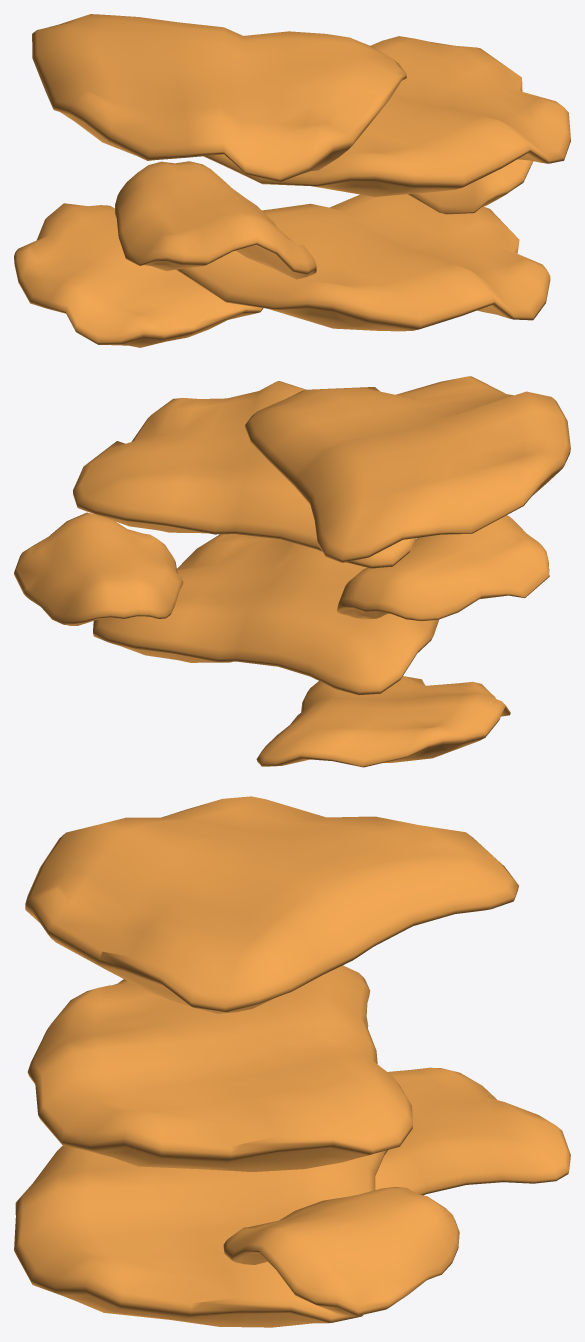
The model's file is Mushroom_Laetiporus.glb.
3 renders of one model, top to bottom at view 1: azimuth 30°, elevation 25°; view 2: azimuth 150°, elevation 25°; view 3: azimuth 270°, elevation 25°, orthographic. The views are drawn at different scales.
Parts seen in each view (by area): view 1: Mushroom_Laetiporus; view 2: Mushroom_Laetiporus; view 3: Mushroom_Laetiporus.
Boxes of the visible parts, x1,y1,x2,y2 form: Mushroom_Laetiporus: (14,14,570,347); Mushroom_Laetiporus: (14,376,570,767); Mushroom_Laetiporus: (14,796,570,1327).
Size of the model in its own units: 1.37 by 0.767 by 1.1.
